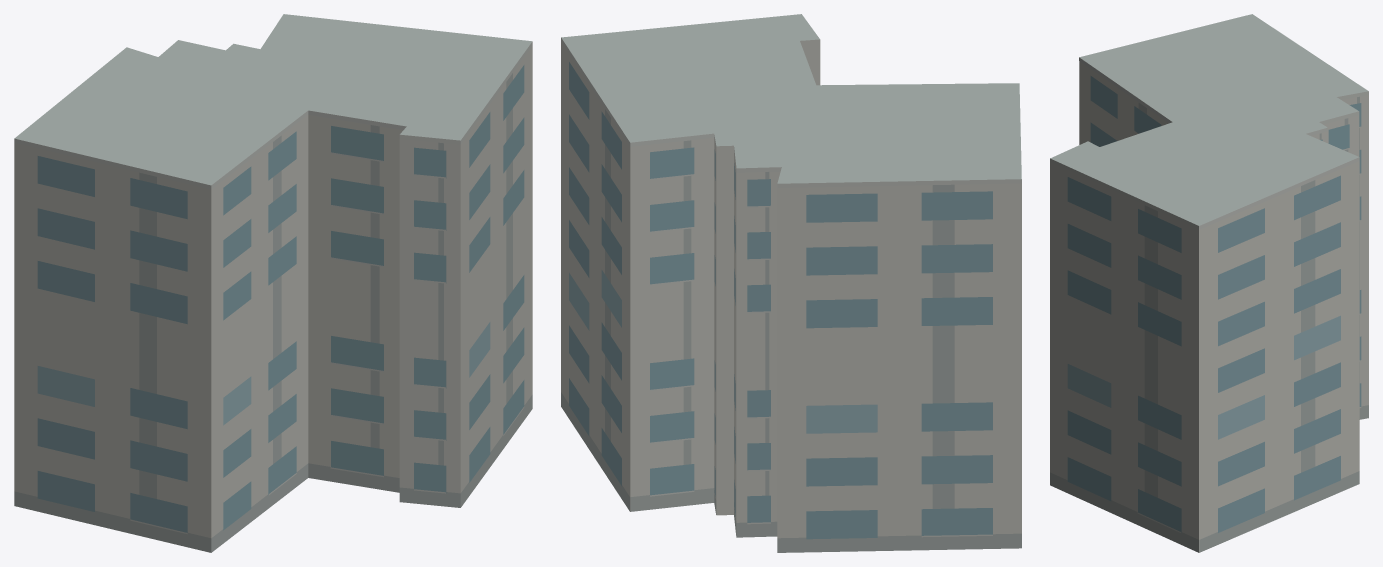
File: residential-4ad44839-1f0e-4cc3-91a5-71497c22f04a.glb
The picture shows the model from 3 angles, left to right: view 1: azimuth 30°, elevation 25°; view 2: azimuth 150°, elevation 25°; view 3: azimuth 270°, elevation 25°; orthographic projection. The views are drawn at different scales.
Visible parts, largest first — view 1: residential-4ad44839-1f0e-4cc3-91a5-71497c22f04a.tmp; view 2: residential-4ad44839-1f0e-4cc3-91a5-71497c22f04a.tmp; view 3: residential-4ad44839-1f0e-4cc3-91a5-71497c22f04a.tmp.
Boxes of the visible parts, x1,y1,x2,y2 form: residential-4ad44839-1f0e-4cc3-91a5-71497c22f04a.tmp: (14, 14, 532, 552); residential-4ad44839-1f0e-4cc3-91a5-71497c22f04a.tmp: (561, 14, 1021, 552); residential-4ad44839-1f0e-4cc3-91a5-71497c22f04a.tmp: (1050, 14, 1368, 552).
Bounding box in the file's own units: 28.87 × 20.75 × 18.34.
